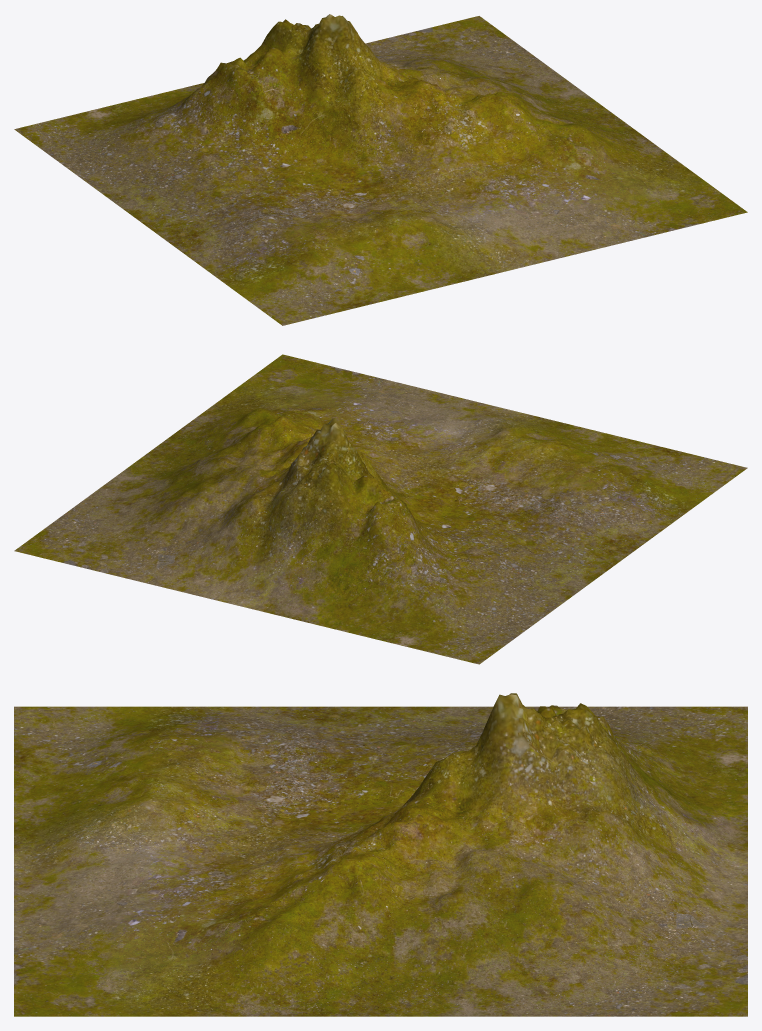
File: Mountain1.fbx
3 renders of one model, top to bottom at view 1: azimuth 30°, elevation 25°; view 2: azimuth 150°, elevation 25°; view 3: azimuth 270°, elevation 25°, orthographic. The views are drawn at different scales.
Visible parts, largest first — view 1: Landscape_Material.001_0; view 2: Landscape_Material.001_0; view 3: Landscape_Material.001_0.
Part boxes in pixels (<box>): Landscape_Material.001_0: <box>14,14,747,325</box>; Landscape_Material.001_0: <box>14,354,747,664</box>; Landscape_Material.001_0: <box>14,693,747,1016</box>.
Size of the model in its own units: 200 by 50.62 by 200.
